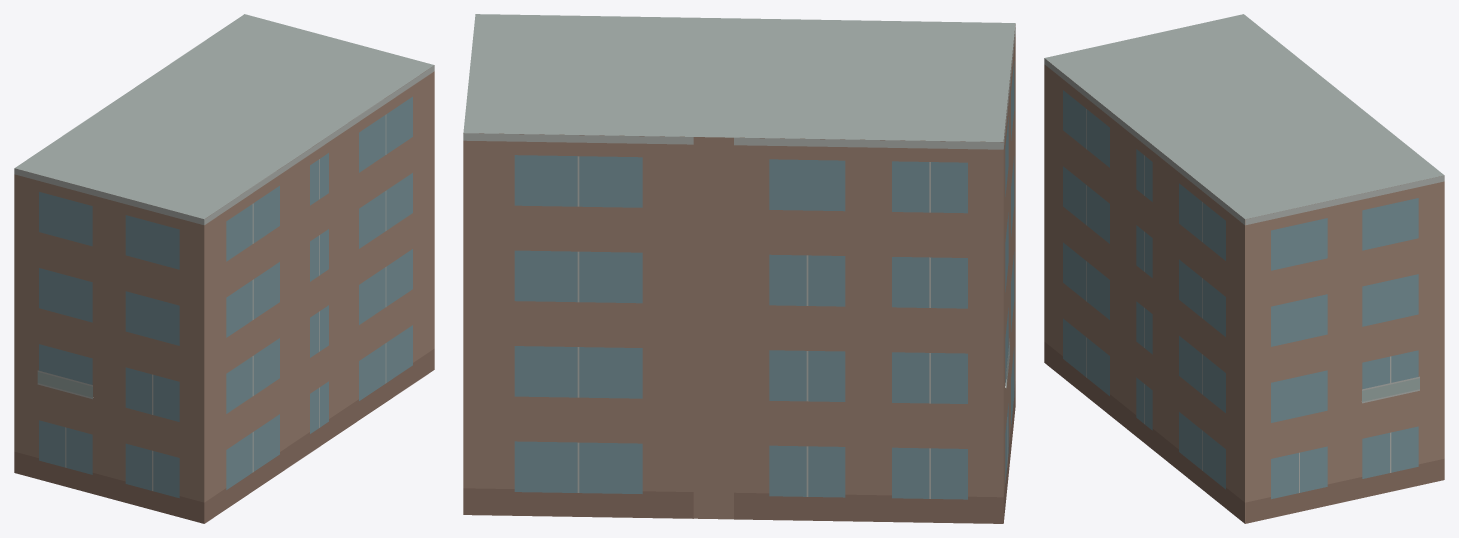
The model's file is survey-upis-32747000.glb.
The picture shows the model from 3 angles, left to right: view 1: azimuth 30°, elevation 25°; view 2: azimuth 150°, elevation 25°; view 3: azimuth 270°, elevation 25°; orthographic projection. The views are drawn at different scales.
Visible parts, largest first — view 1: survey-upis-32747000.tmp; view 2: survey-upis-32747000.tmp; view 3: survey-upis-32747000.tmp.
Boxes of the visible parts, bbox=[...] form: survey-upis-32747000.tmp: bbox=[14, 14, 434, 523]; survey-upis-32747000.tmp: bbox=[463, 14, 1015, 523]; survey-upis-32747000.tmp: bbox=[1044, 14, 1444, 523].
Bounding box in the file's own units: 17.57 × 12.15 × 14.48.
